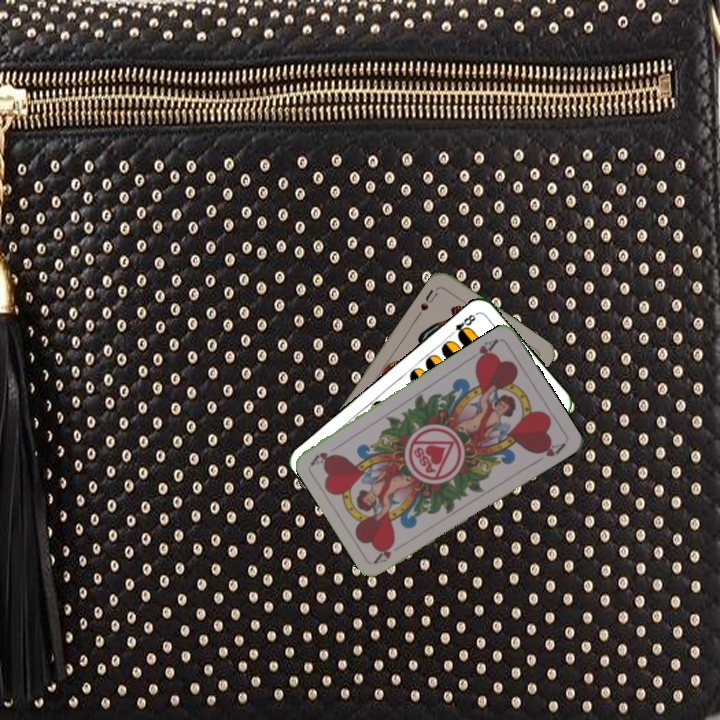E8: (445, 310, 478, 341)
HA: (466, 335, 502, 367), (371, 538, 408, 566)
SU: (414, 283, 443, 318)
